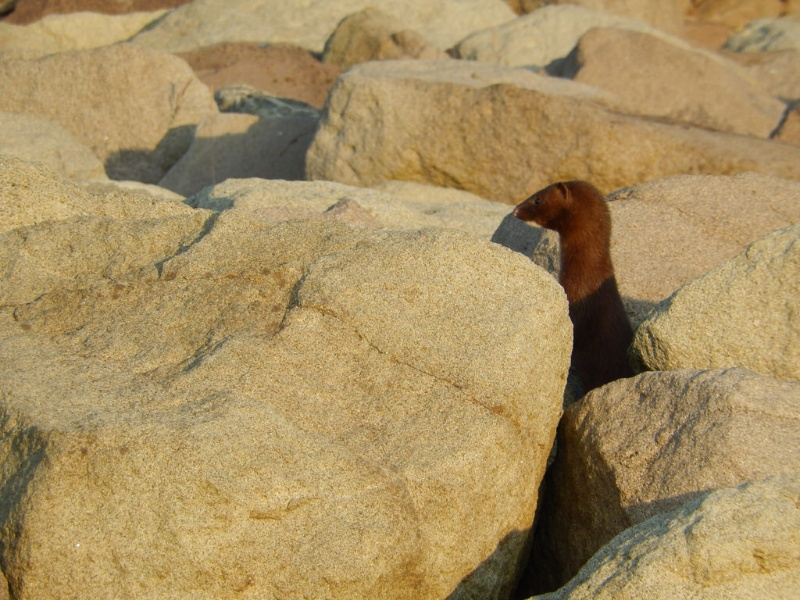minkish: (511, 180, 651, 406)
